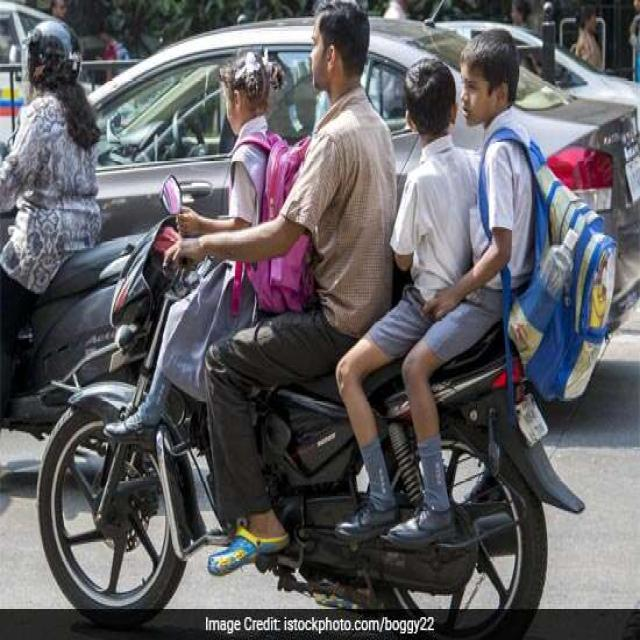motorcycle: (39, 2, 619, 638)
